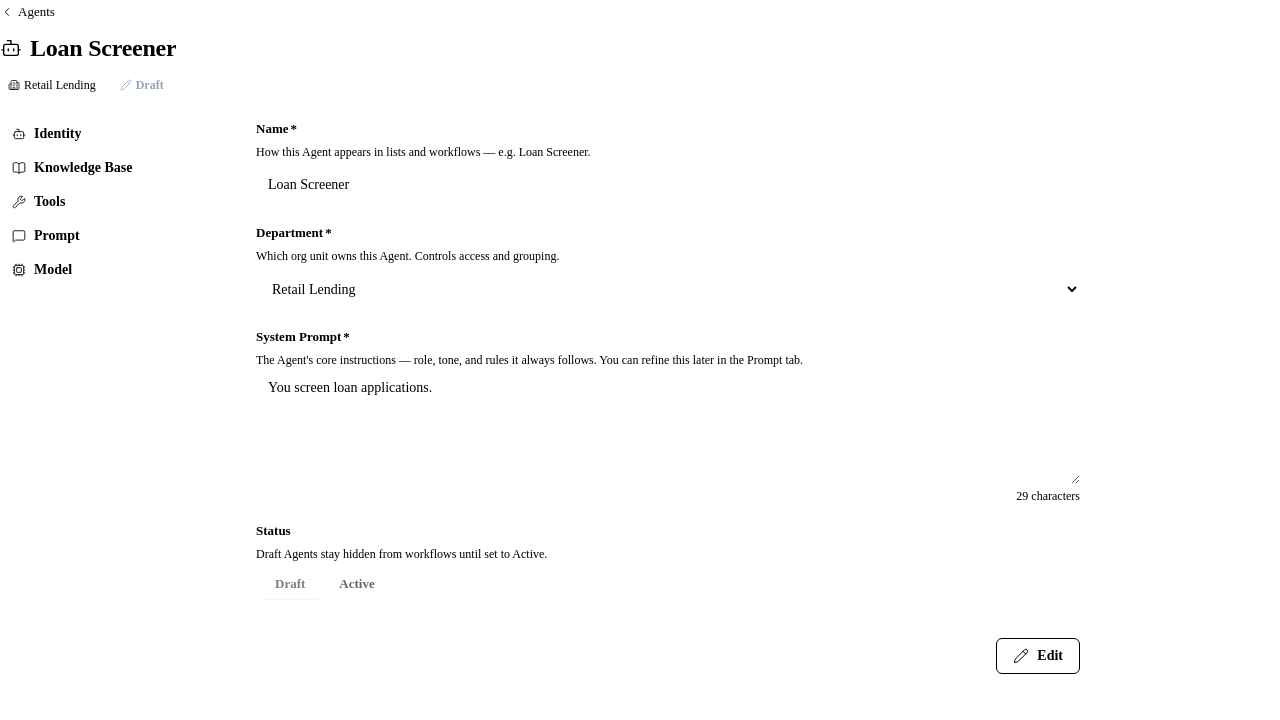
Test: AgentDetailShell — Story 2.8 integration › Discard drops the edit and switches tabs (AC #4)
expect the element with test id "vaic-identity-tab" is shown: met, box [256,118,1080,674]
Step 1. Click the button with test id "vaic-tab-edit" → (1038,656), box [996,638,1080,674]
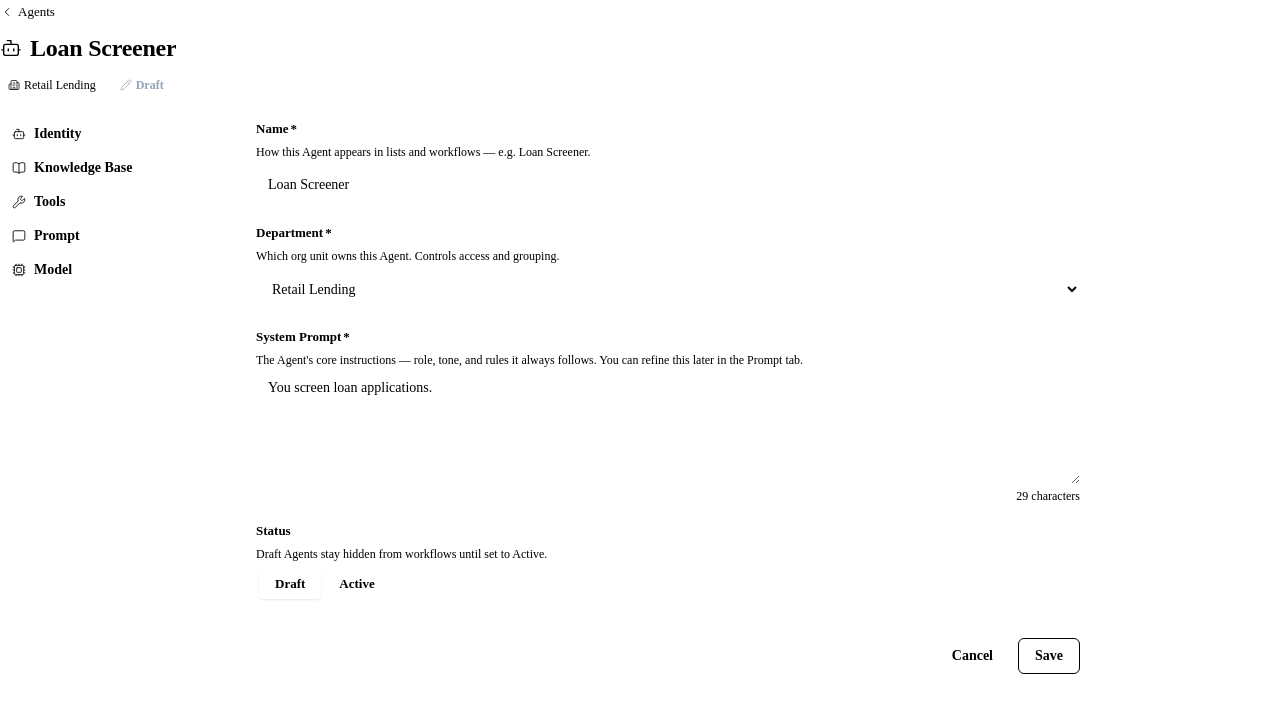
Step 2. Replace the text in the field labelled "Name" with "Loan Screener v2" → (668,185), box [256,164,1080,206]
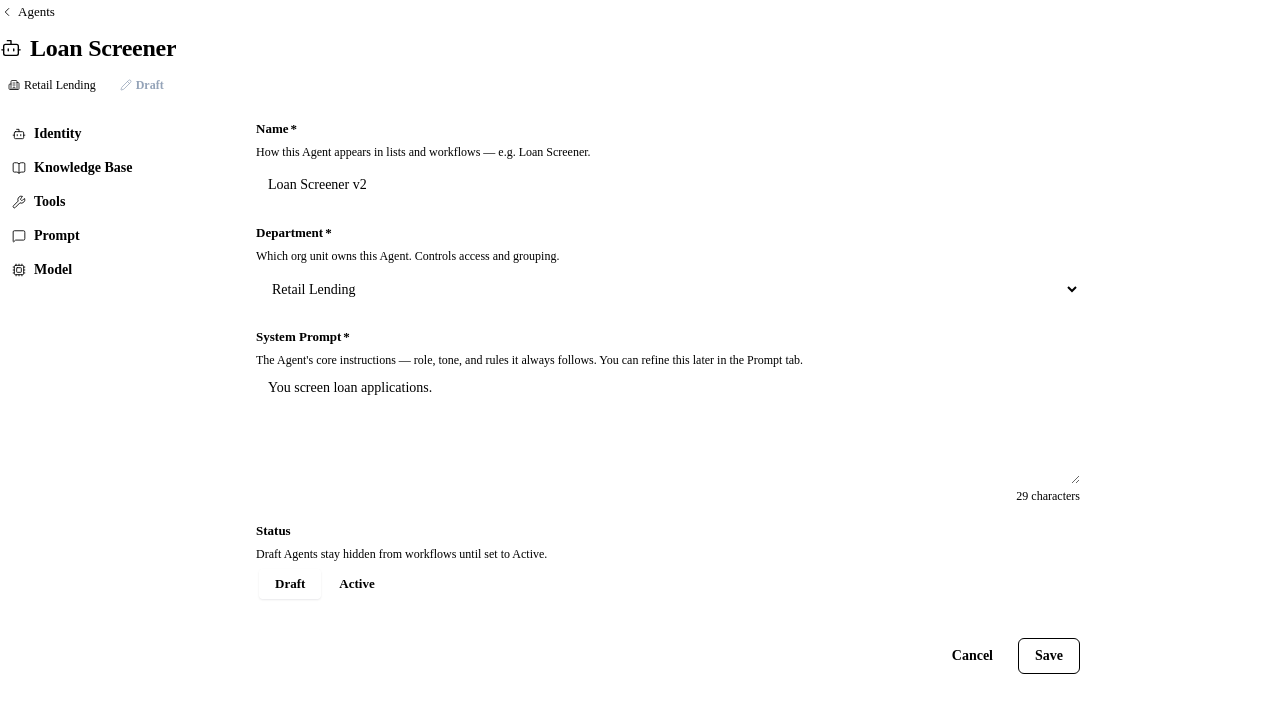
Step 3. Click the tab with test id "vaic-tab-model" → (116,270), box [0,254,232,286]
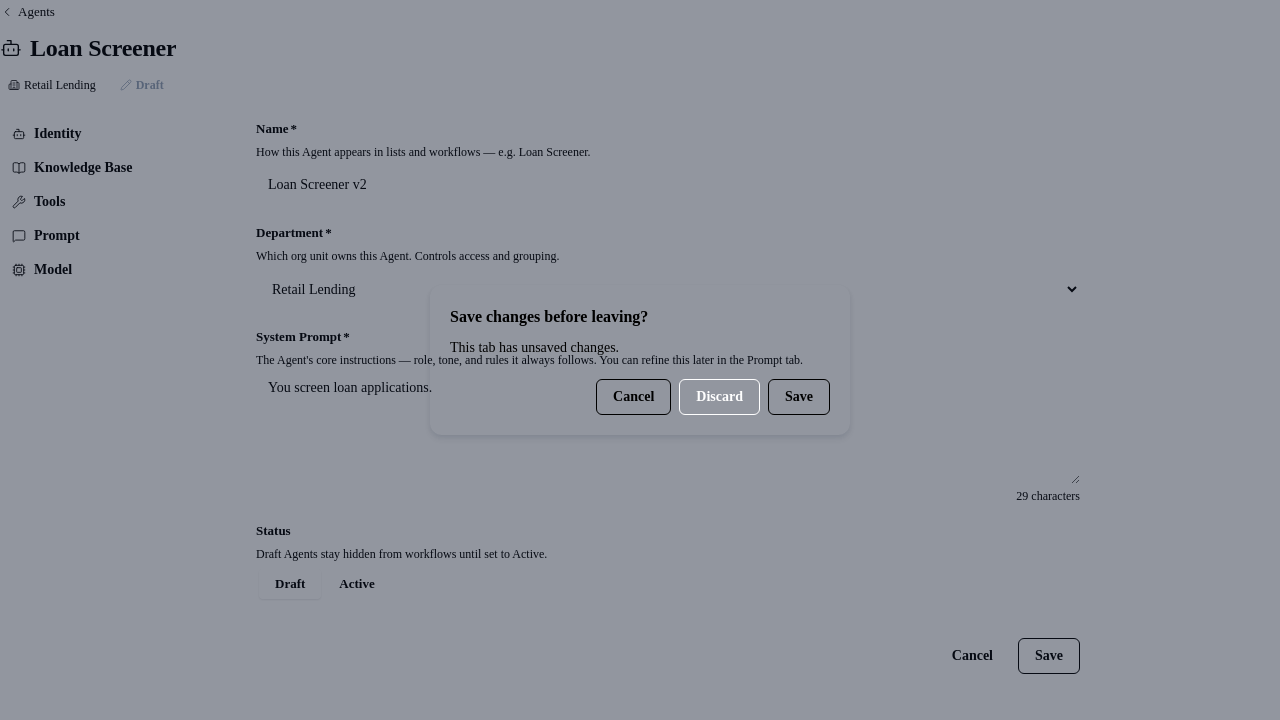
Step 4. Click the button "Discard" → (720,397), box [679,379,760,415]
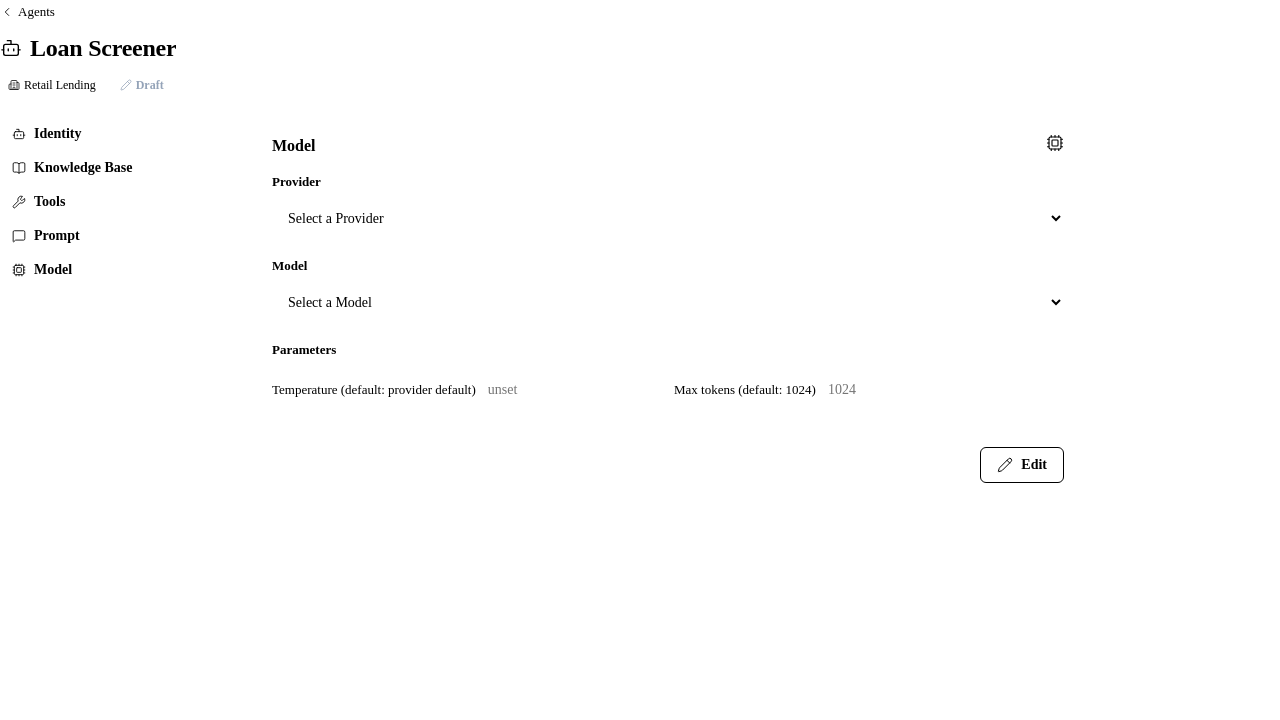
expect the element with test id "vaic-model-tab" is shown: met, box [256,118,1080,499]
